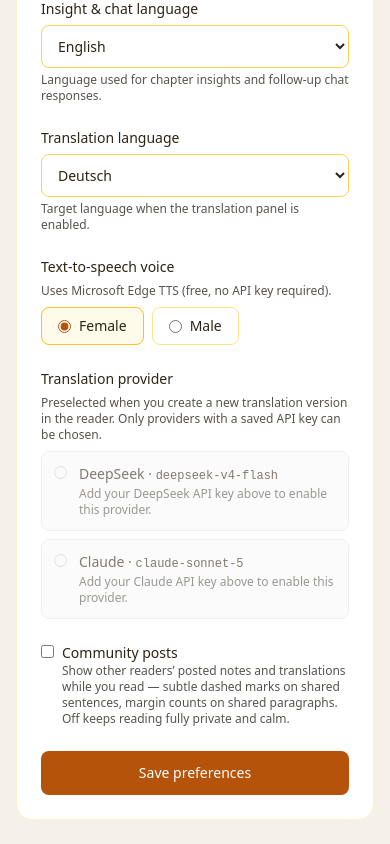
Test: ProfilePage — preferences › shows 'Saved!' confirmation after saving preferences
(page scrolled)
Click the button "Save preferences": (195, 773) x1=41 y1=751 x2=349 y2=795
(page scrolled)
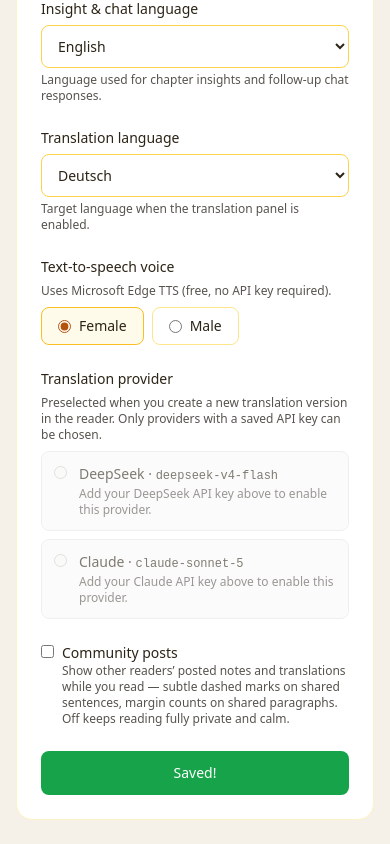
Expected: the button "Saved!" is shown, x1=41 y1=751 x2=349 y2=795
